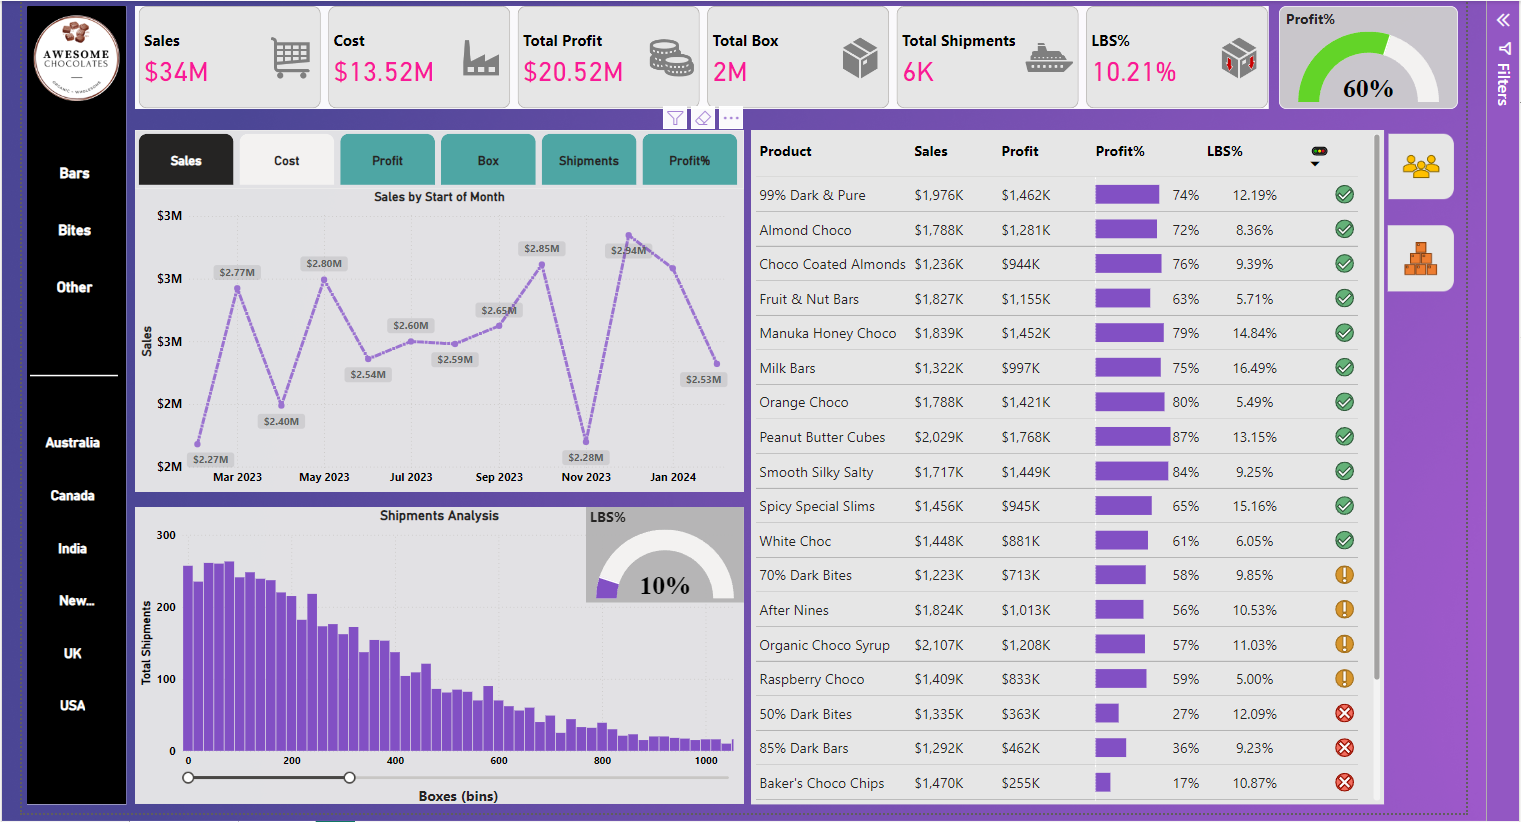

Layout of this report page (visuals, bound fields, positions):
{"tool":"powerbi","page":{"name":"Sales Report","canvas":[1920,1080],"ordinal":0},"visuals":[{"type":"shape","box":[6.8,6.8,131.7,1061.8],"z":0},{"type":"cardVisual","fields":{"Data":["_Measures (2).Total Sales","_Measures (2).Total Cost","_Measures (2).Total Profit","_Measures (2).Total Box","_Measures (2).Total Shipments","_Measures (2).LBS%"]},"box":[150,6.7,1508.3,136.7],"z":1000},{"type":"gauge","fields":{"Y":["_Measures (2).Profit%"]},"box":[1671.7,6.7,238.3,136.7],"z":2000},{"type":"image","box":[10.9,8.1,123.6,135.8],"z":3000},{"type":"lineChart","fields":{"Y":["_Measures (2).Total Sales"],"Category":["calendar.Start of Month"]},"box":[150,250,810,403.3],"z":4000},{"type":"advancedSlicerVisual","fields":{"Values":["Measure Selector.Measure Selector"]},"box":[150,171.7,810,78.3],"z":5000},{"type":"columnChart","title":"Shipments Analysis","fields":{"Category":["shipments.Boxes (bins)"],"Y":["_Measures (2).Total Shipments"]},"box":[150,673.3,810,395],"z":6000},{"type":"gauge","fields":{"Y":["_Measures (2).LBS%"]},"box":[750,673.3,210,126.7],"z":7000},{"type":"tableEx","title":"People Details","fields":{"Values":["people.Picture","people.Sales person","_Measures (2).Total Sales","_Measures (2).Total Profit","_Measures (2).Profit%","_Measures (2).LBS%","_Measures (2).Profit Target Inddicator"]},"box":[969.5,171.1,845.9,897.5],"z":8000},{"type":"advancedSlicerVisual","fields":{"Values":["products.Category"]},"box":[11.7,188.3,116.7,230],"z":10000},{"type":"advancedSlicerVisual","fields":{"Values":["locations.Geo"]},"box":[12.2,551.3,111.3,422.3],"z":11000},{"type":"shape","box":[11.1,485.7,117.5,25.4],"z":12000},{"type":"image","title":"People Icon","box":[1811.7,171.7,98.3,96.7],"z":13000},{"type":"image","title":"Product Icon","box":[1811.7,291.7,98.3,101.7],"z":14000}]}

Visuals, with their boxes in screenshot pixels (x1, y1, x2, y2):
shape: 25,5,124,804
cardVisual - _Measures (2).Total Sales x _Measures (2).Total Cost: 133,5,1267,108
gauge - _Measures (2).Profit%: 1277,5,1457,108
image: 28,6,121,108
lineChart - _Measures (2).Total Sales x calendar.Start of Month: 133,188,742,491
advancedSlicerVisual - Measure Selector.Measure Selector: 133,129,742,188
"Shipments Analysis" columnChart: 133,507,742,804
gauge - _Measures (2).LBS%: 584,507,742,602
"People Details" tableEx: 749,129,1386,804
advancedSlicerVisual - products.Category: 29,142,116,315
advancedSlicerVisual - locations.Geo: 29,415,113,732
shape: 28,365,117,385
"People Icon" image: 1383,129,1457,202
"Product Icon" image: 1383,219,1457,296
